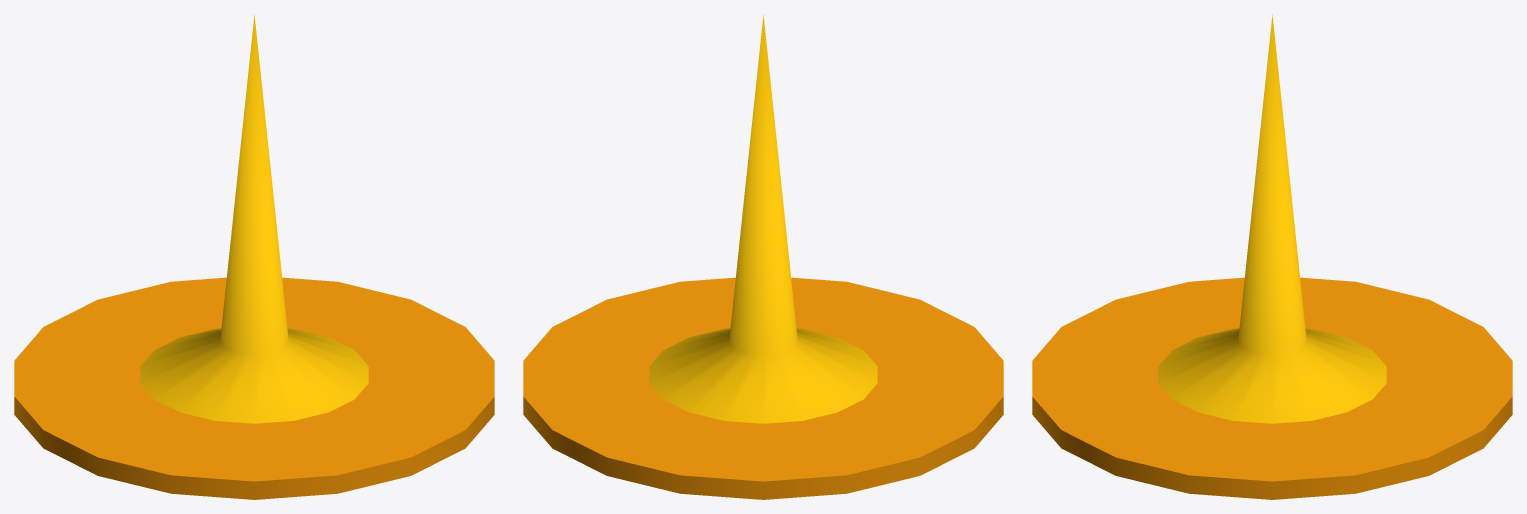
Rendered from thumbtack.FBX.
3 views of the same model, side by side, from view 1: azimuth 30°, elevation 25°; view 2: azimuth 150°, elevation 25°; view 3: azimuth 270°, elevation 25° (orthographic).
Visible parts, largest first — view 1: Cylinder001, Cylinder002; view 2: Cylinder001, Cylinder002; view 3: Cylinder001, Cylinder002.
Part boxes in pixels (bbox=[...]): Cylinder001: bbox=[14, 277, 494, 499]; Cylinder002: bbox=[140, 14, 368, 423]; Cylinder001: bbox=[523, 277, 1003, 499]; Cylinder002: bbox=[649, 14, 877, 423]; Cylinder001: bbox=[1032, 277, 1512, 499]; Cylinder002: bbox=[1158, 14, 1386, 423].
Size of the model in its own units: 6 by 5.2 by 5.91.
